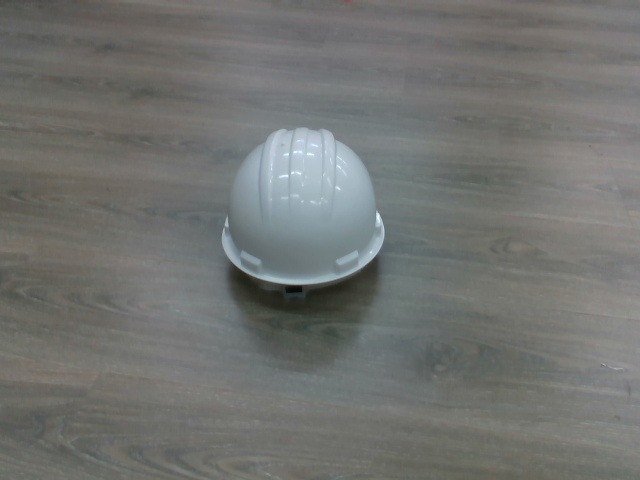helmet: (218, 125, 388, 301)
